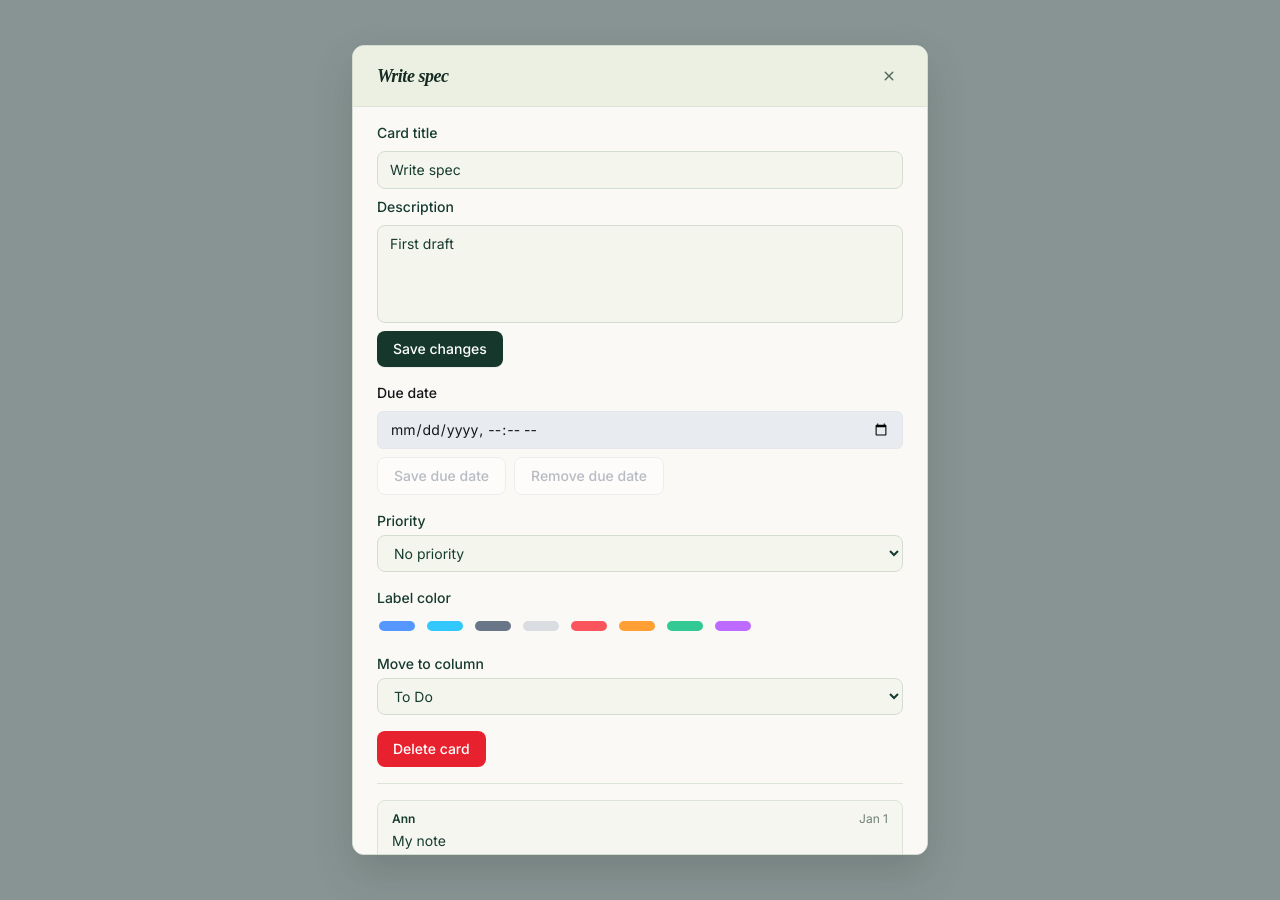
Test: CardDetailModal › saves title and description with exactly {title, description}
This screenshot has width=1280, height=900.
Replace the text in the field labelled "Card title" with "Write the spec" at (640, 170), box [377,151,903,189]
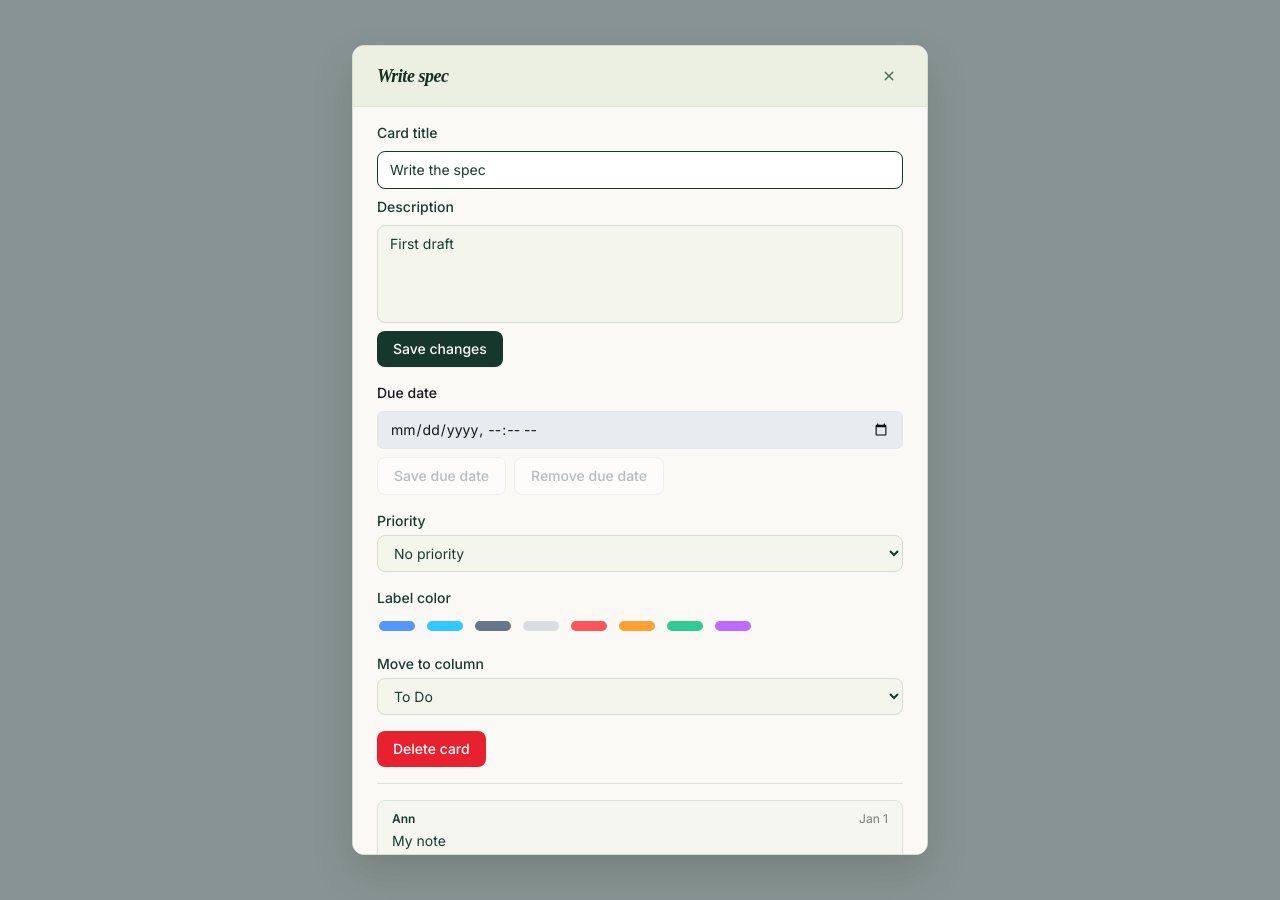
Replace the text in the text box labelled "Description" with "Second draft" at (640, 274), box [377,225,903,323]
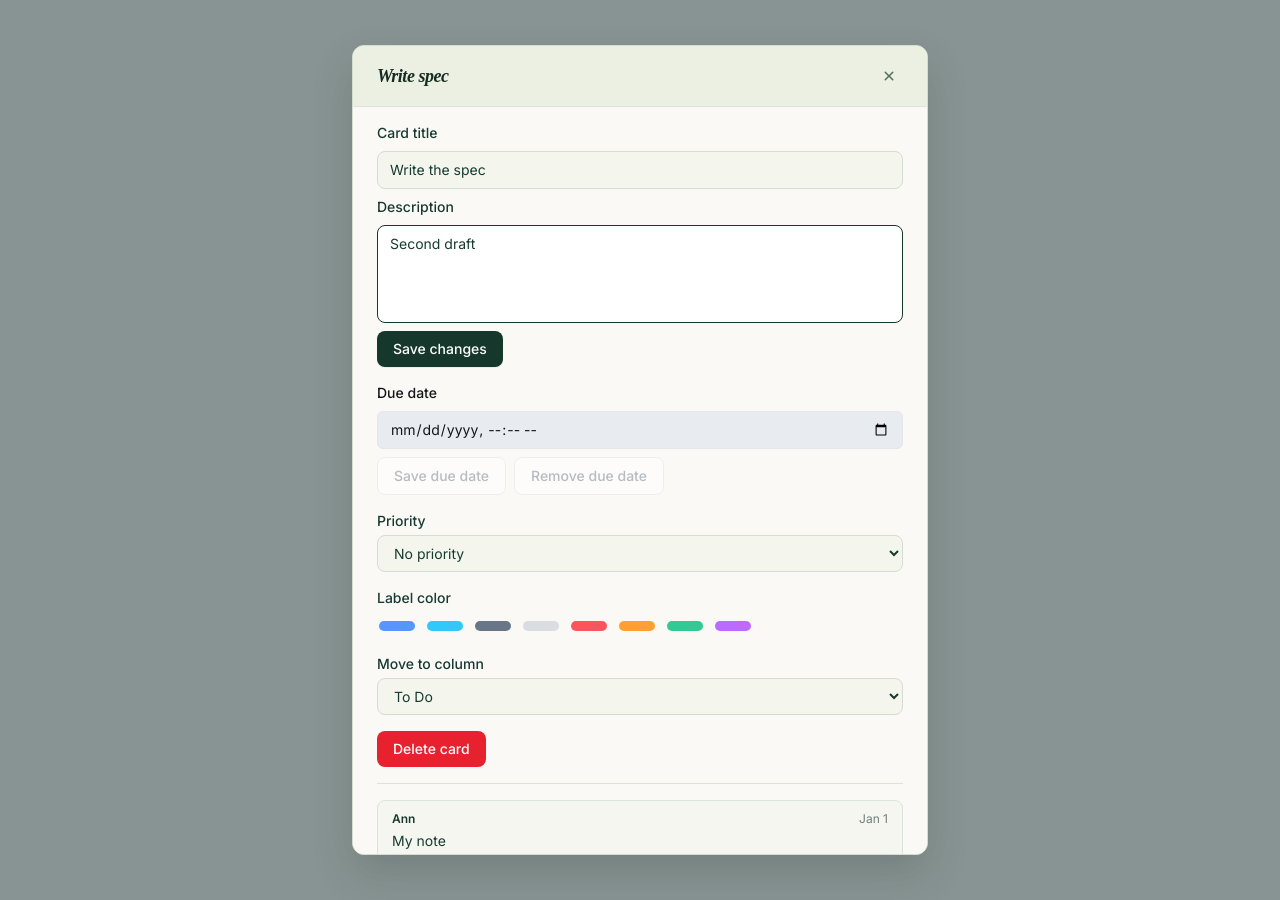
Click the button "Save changes" at (440, 349), box [377,331,503,367]
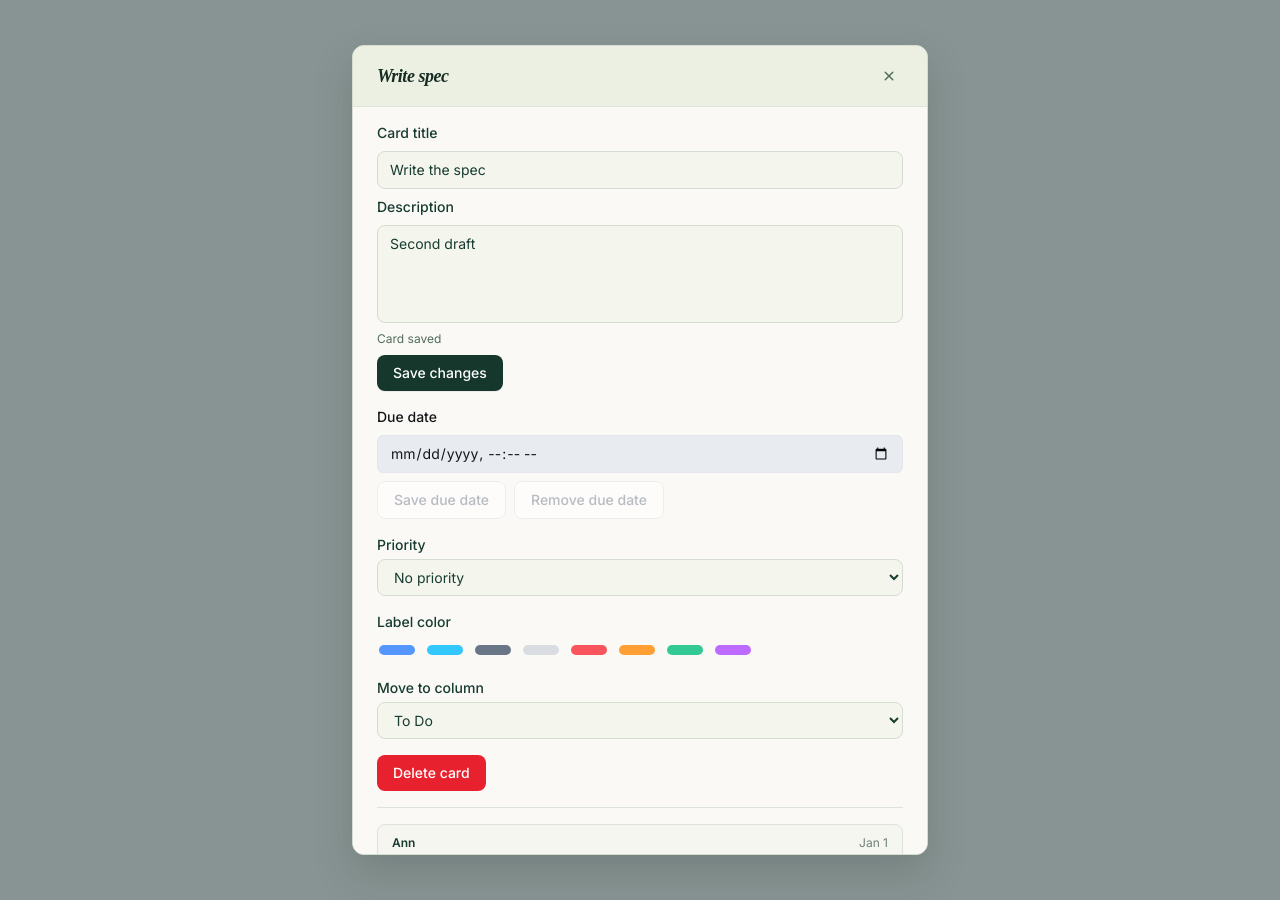
Expected: the message reads "Card saved", [377,331,441,346]
